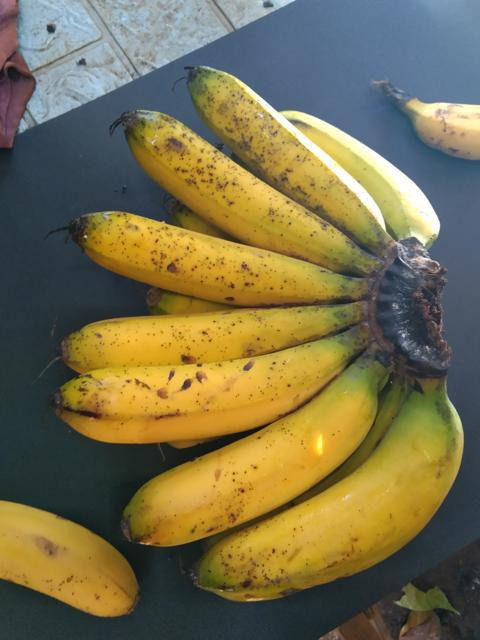ripe: (193, 420, 460, 611), (123, 355, 384, 542), (121, 107, 362, 283), (49, 333, 349, 440), (65, 218, 361, 303), (55, 298, 361, 377)
